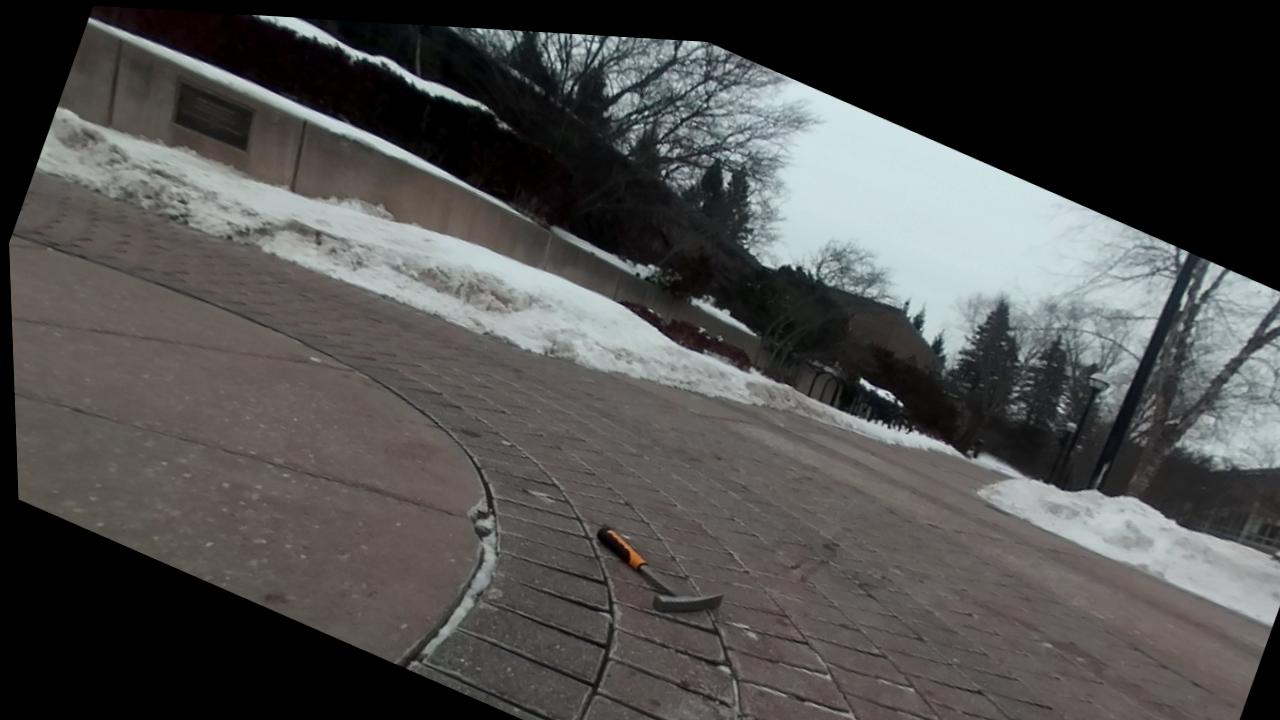pick: (596, 526, 722, 612)
